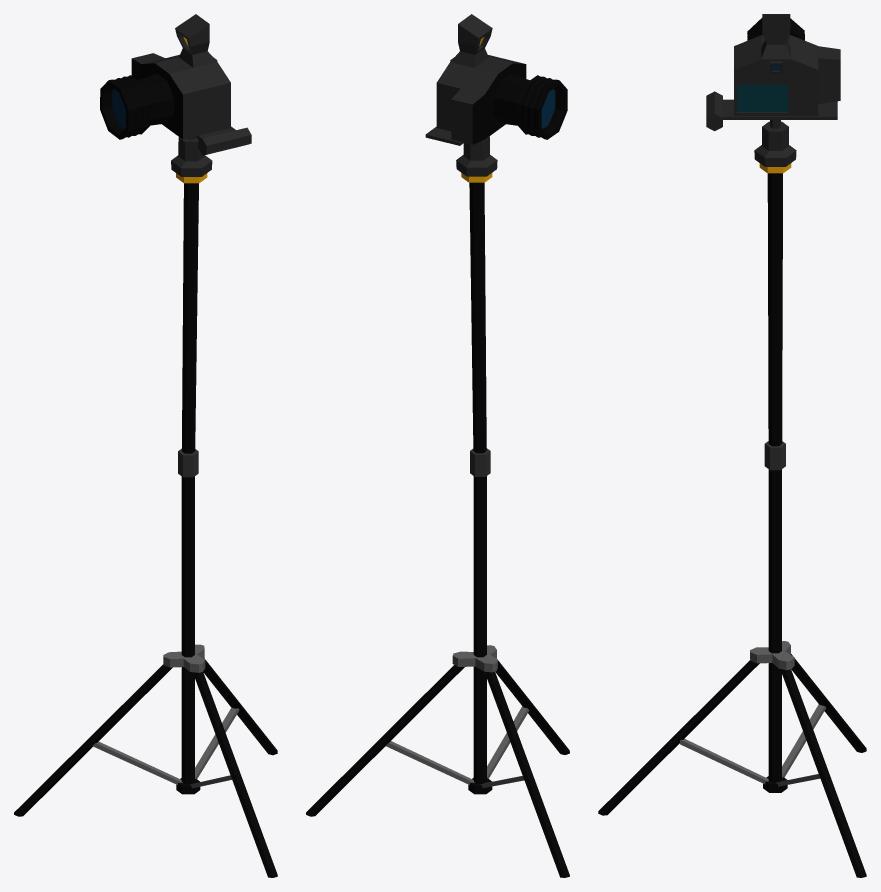
The model's file is Camera2.glb.
3 views of the same model, side by side, from view 1: azimuth 30°, elevation 25°; view 2: azimuth 150°, elevation 25°; view 3: azimuth 270°, elevation 25° (orthographic).
Parts seen in each view (by area): view 1: Camera.01; view 2: Camera.01; view 3: Camera.01.
Boxes of the visible parts, x1,y1,x2,y2 form: Camera.01: (14, 14, 277, 877); Camera.01: (306, 14, 569, 877); Camera.01: (598, 14, 866, 877).
Bounding box in the file's own units: 0.4628 × 1.33 × 0.4011.
1 material, 1 textured.
